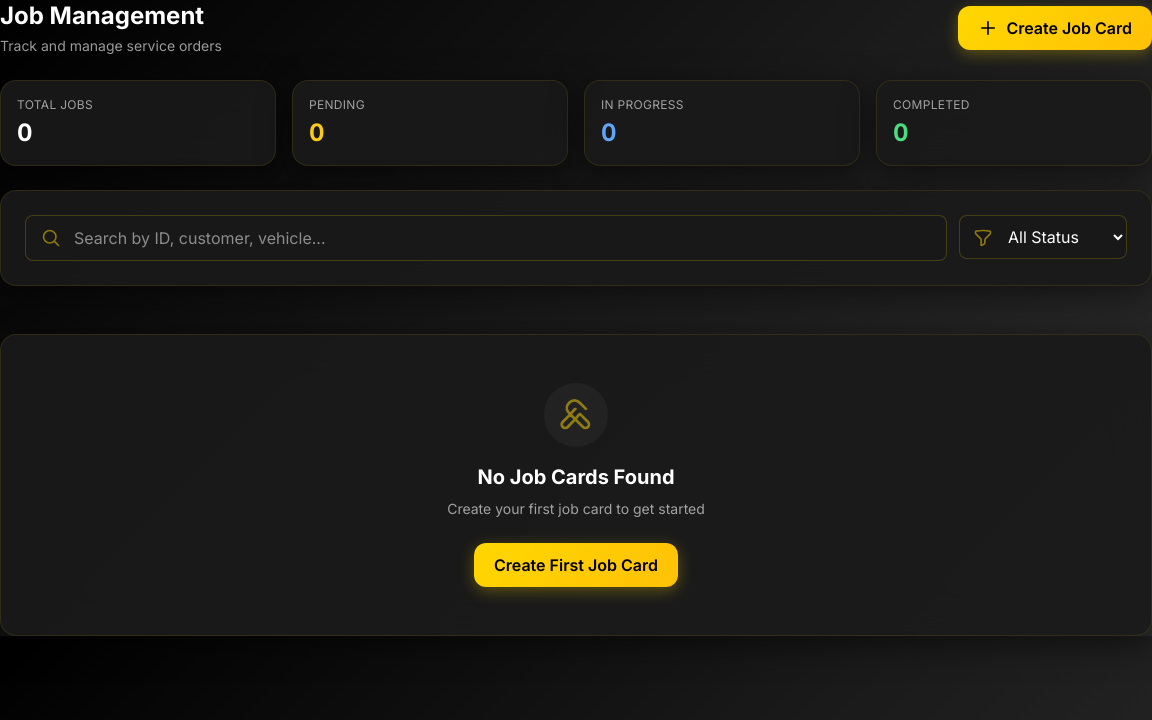
Test: Create Job Card form › warns when more of a part is requested than is in stock
The image size is (1152, 720).
Click the button "Create Job Card" at (1055,28), box x1=958 y1=6 x2=1151 y2=50
(page scrolled)
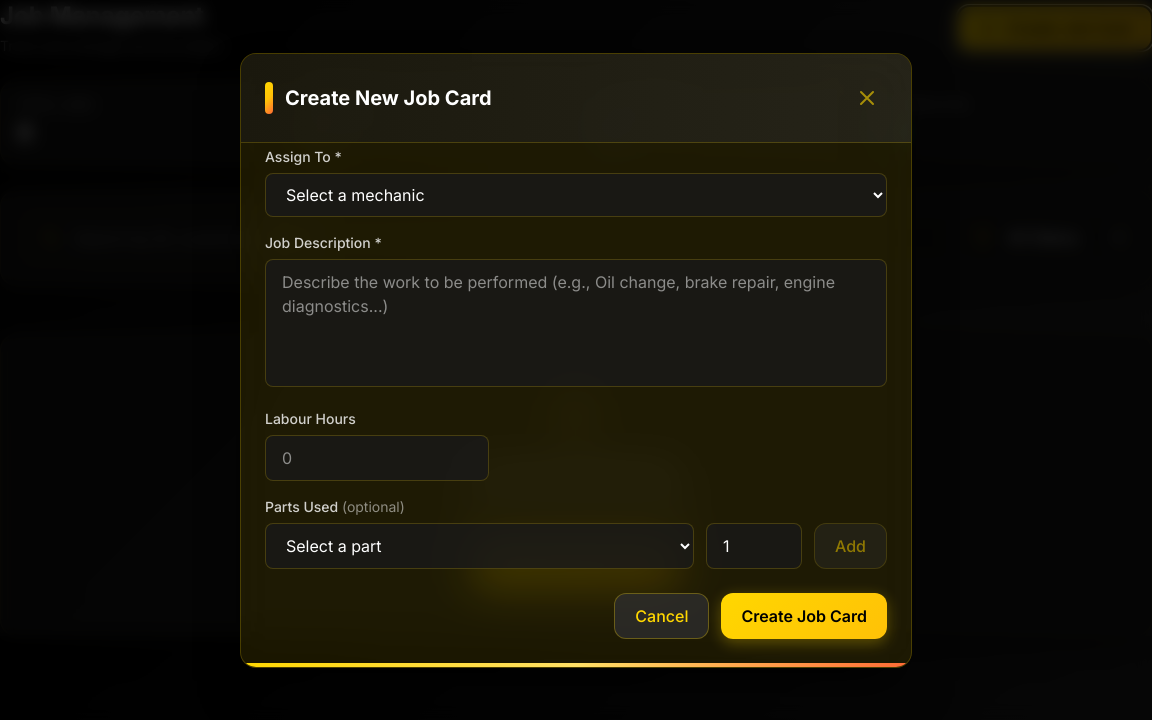
Select "Oil Filter (1 in stock)" in the dropdown labelled "Parts Used (optional)" at (480,546), box x1=265 y1=522 x2=694 y2=568
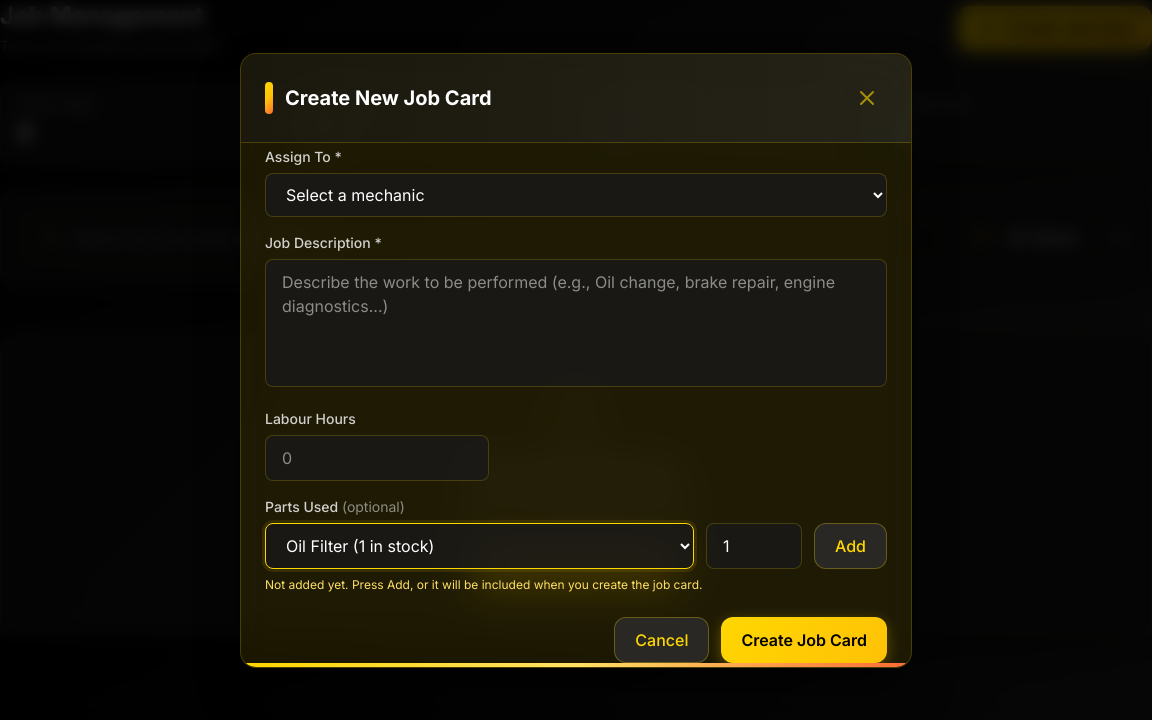
Replace the text in the number field named "Part quantity" with "4" at (754,546), box x1=706 y1=522 x2=802 y2=568
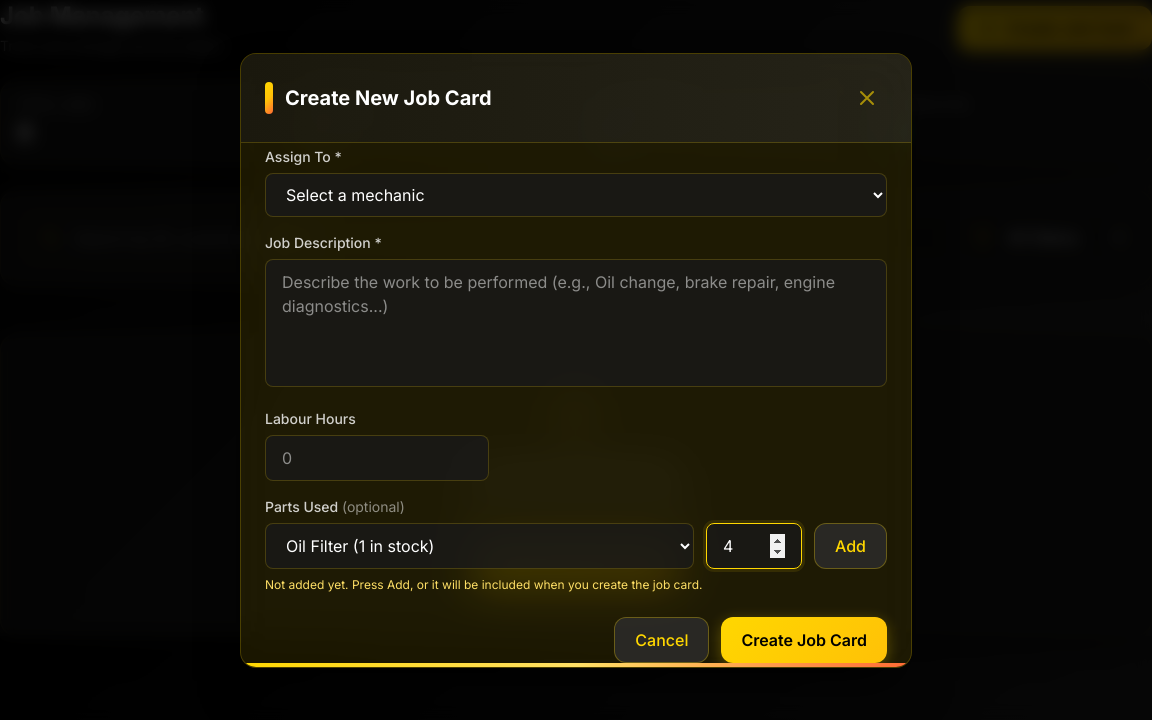
Click the button "Add" at (850,546), box x1=814 y1=522 x2=887 y2=568
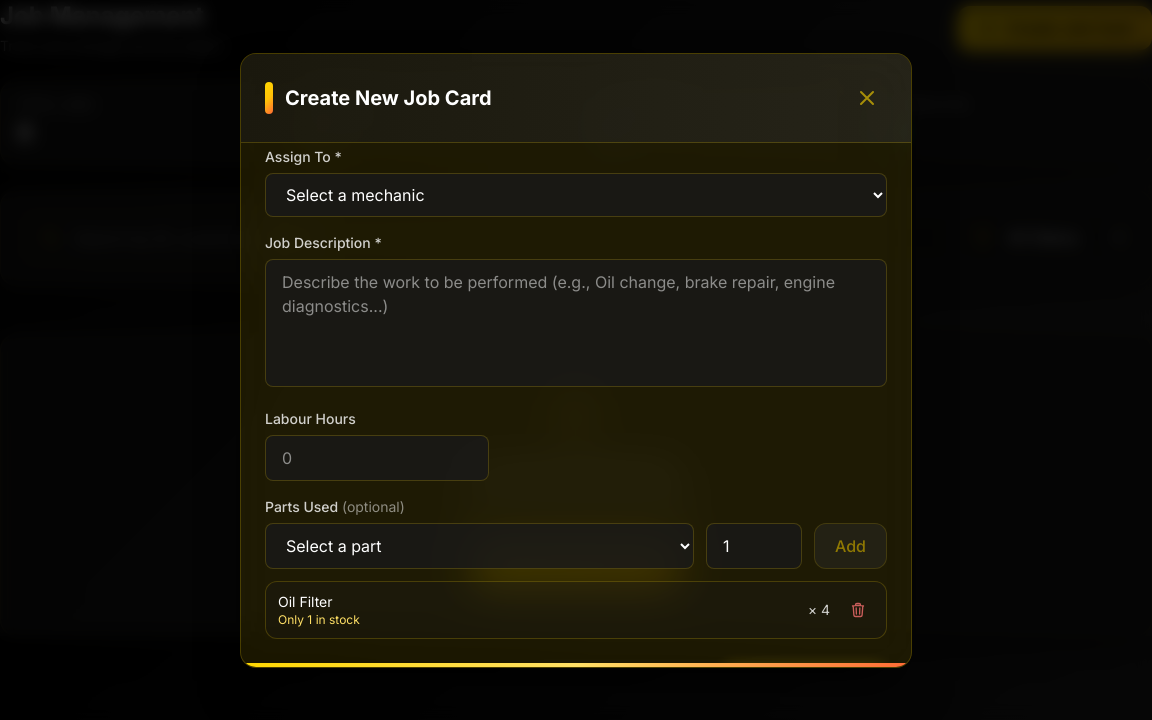
Expected: the text "Only 1 in stock" is shown, x1=278 y1=612 x2=360 y2=626
